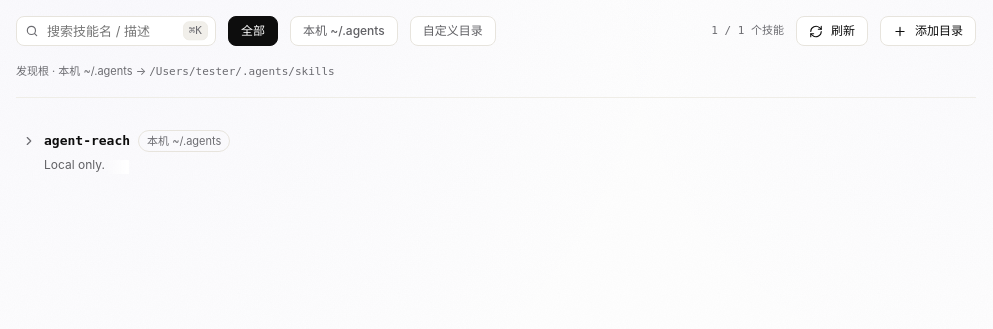
Test: SkillsView › surfaces gateway validation errors inline when the dir is invalid
Expected: the text "agent-reach" is shown, [44,130,130,152]
Click the button "自定义目录" at (453, 31), box [410,16,496,46]
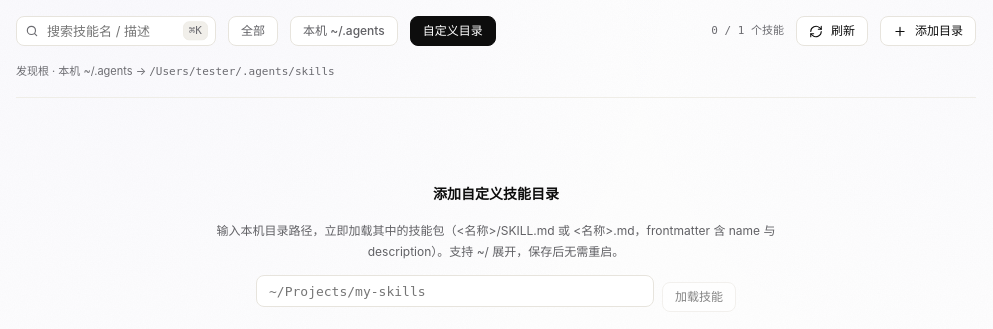
Type "/nope" into the field named "自定义技能目录路径" at (455, 291), box [256,275,654,307]
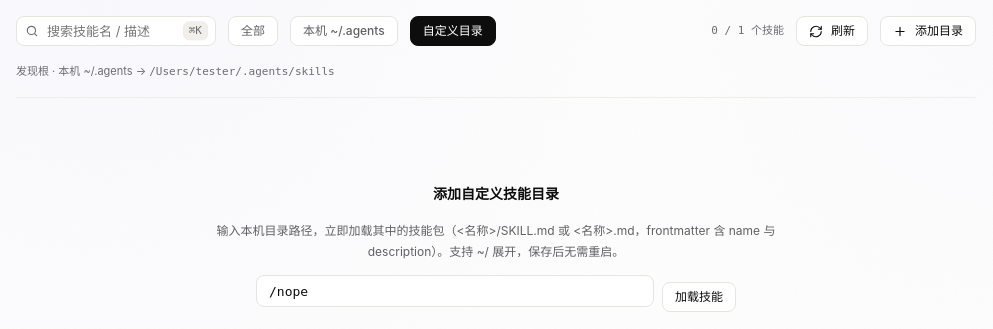
Click the button "加载技能" at (699, 297), box [662,282,736,312]
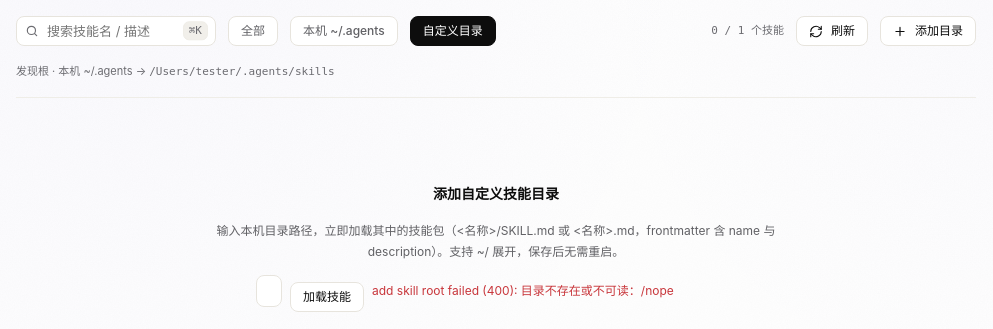
Expected: the text "add skill root failed (400): 目录不存在或不可读：/nope" is shown, [372,283,674,298]
